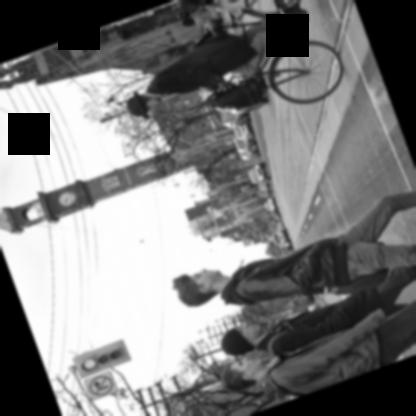backpack: (330, 266, 389, 293), (204, 80, 260, 107), (267, 321, 308, 357)
